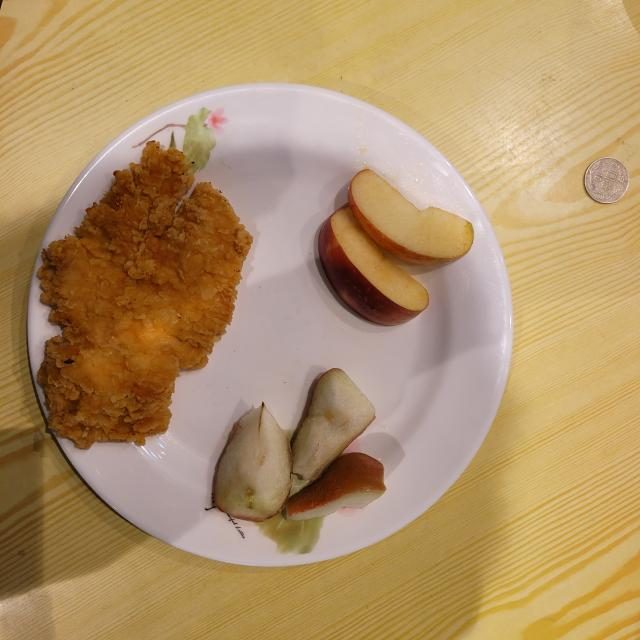apple -sliced-: (319, 169, 474, 325)
coin: (585, 158, 630, 204)
fried chicken cutlet: (38, 141, 252, 449)
